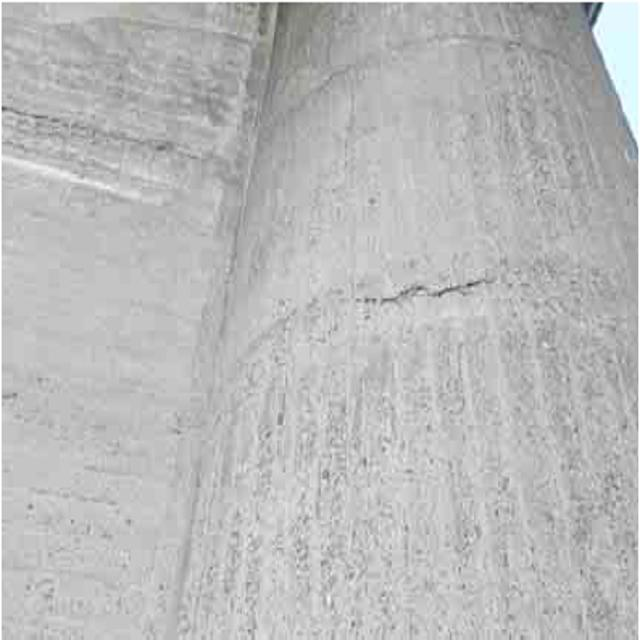crack: (253, 253, 547, 336)
